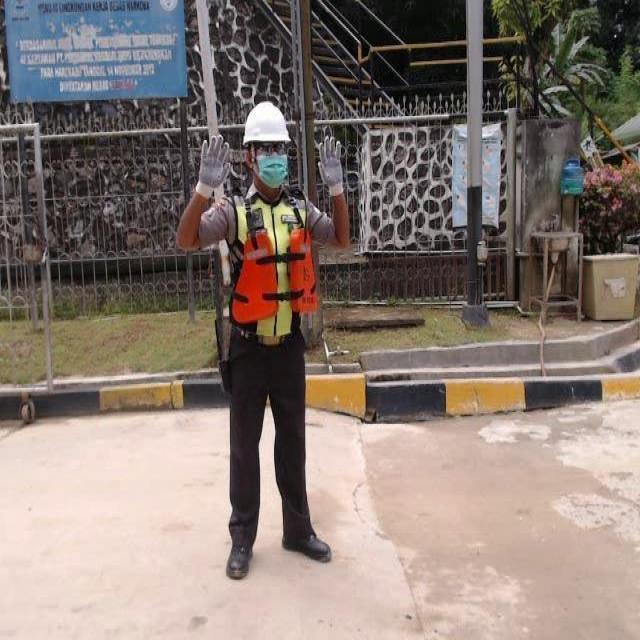boots: (281, 533, 331, 562), (226, 544, 253, 579)
gloves: (195, 134, 231, 198), (316, 135, 344, 197)
hard-hat: (241, 101, 291, 146)
person: (175, 101, 351, 579)
vest: (197, 196, 313, 336)
